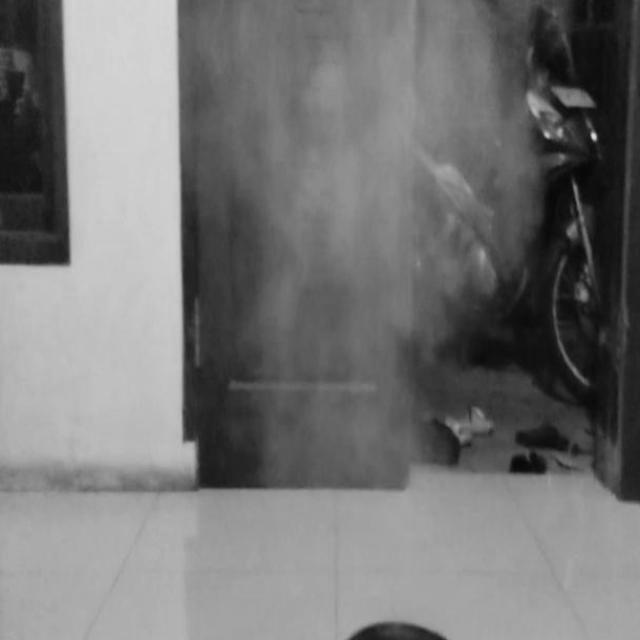fire: (184, 0, 536, 451)
